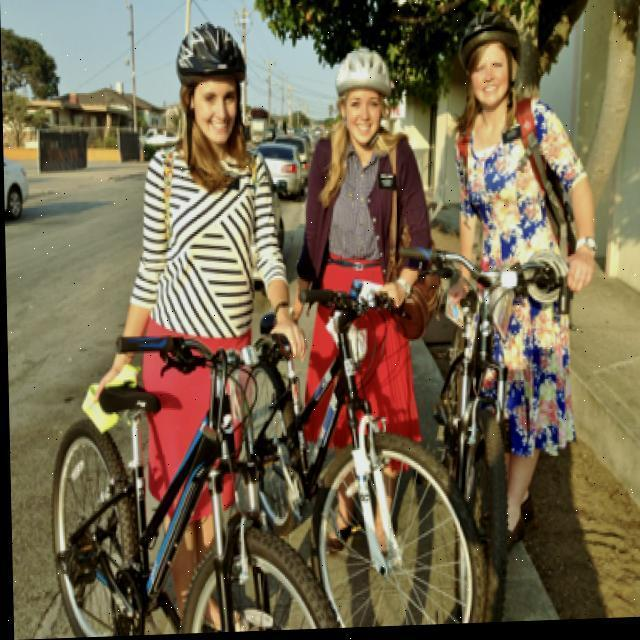Helmet: (170, 18, 259, 149), (452, 12, 526, 116), (329, 44, 395, 152)
